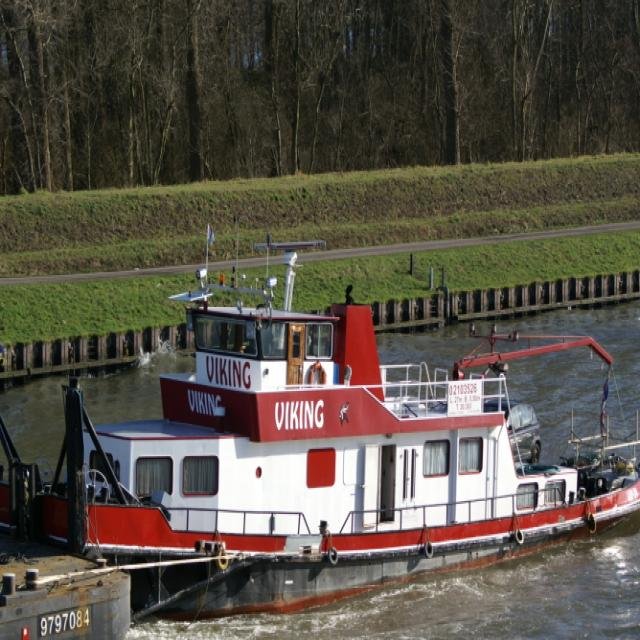tugboat: (1, 231, 640, 634)
